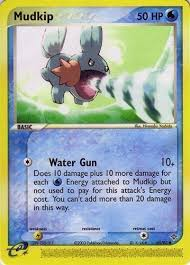mudkip: (37, 26, 114, 110)
